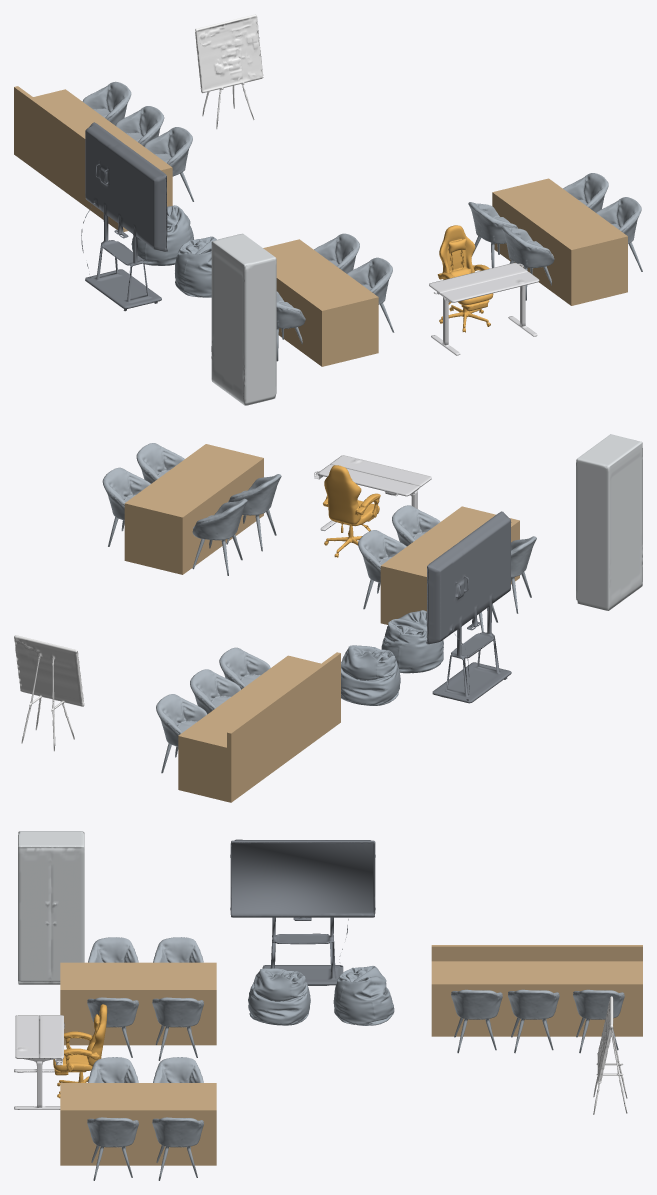
The model's file is pair_lab.glb.
3 views of the same model, one above another, from view 1: azimuth 30°, elevation 25°; view 2: azimuth 150°, elevation 25°; view 3: azimuth 270°, elevation 25° (orthographic). The views are drawn at different scales.
Parts seen in each view (by area): view 1: almirah, table_small_2, screen, table_small_1, table_big, whiteboard_1, table_adjustable, gaming_chair, beanbag_1, beanbag_2, chair_6, chair_9 (+8 smaller); view 2: table_big, almirah, table_small_2, screen, table_small_1, whiteboard_1, beanbag_2, beanbag_1, gaming_chair, table_adjustable, chair_5, chair_11 (+8 smaller); view 3: table_big, screen, table_small_2, table_small_1, almirah, beanbag_1, beanbag_2, table_adjustable, gaming_chair, chair_1, chair_10, chair_9 (+9 smaller).
Part boxes in pixels (left/top/right/bottom): almirah: left=211, top=233, right=276, bottom=405; table_small_2: left=492, top=178, right=627, bottom=305; screen: left=81, top=122, right=167, bottom=311; table_small_1: left=263, top=239, right=378, bottom=366; table_big: left=14, top=86, right=172, bottom=231; whiteboard_1: left=195, top=14, right=263, bottom=129; table_adjustable: left=429, top=262, right=539, bottom=355; gaming_chair: left=437, top=225, right=493, bottom=332; beanbag_1: left=175, top=236, right=216, bottom=297; beanbag_2: left=131, top=205, right=193, bottom=265; chair_6: left=501, top=226, right=554, bottom=300; chair_9: left=144, top=127, right=193, bottom=201; table_big: left=178, top=652, right=340, bottom=802; almirah: left=576, top=434, right=642, bottom=610; table_small_2: left=124, top=444, right=263, bottom=574; screen: left=426, top=511, right=511, bottom=703; table_small_1: left=380, top=506, right=519, bottom=624; whiteboard_1: left=14, top=635, right=84, bottom=751; beanbag_2: left=341, top=645, right=400, bottom=705; beanbag_1: left=381, top=610, right=443, bottom=673; gaming_chair: left=323, top=465, right=380, bottom=557; table_adjustable: left=314, top=455, right=431, bottom=530; chair_5: left=192, top=498, right=247, bottom=575; chair_11: left=156, top=694, right=207, bottom=773; table_big: left=431, top=945, right=642, bottom=1036; screen: left=230, top=839, right=375, bottom=985; table_small_2: left=60, top=1083, right=216, bottom=1165; table_small_1: left=60, top=962, right=216, bottom=1045; almirah: left=18, top=831, right=84, bottom=984; beanbag_1: left=248, top=968, right=310, bottom=1025; beanbag_2: left=333, top=966, right=394, bottom=1025; table_adjustable: left=14, top=1015, right=64, bottom=1109; gaming_chair: left=53, top=1004, right=107, bottom=1098; chair_1: left=152, top=997, right=203, bottom=1060; chair_10: left=508, top=989, right=559, bottom=1053; chair_9: left=451, top=989, right=502, bottom=1053.
Size of the model in its own units: 13.98 by 4.41 by 17.52.
